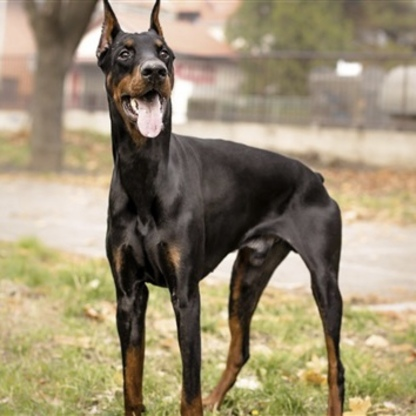doberman: (92, 2, 352, 415)
